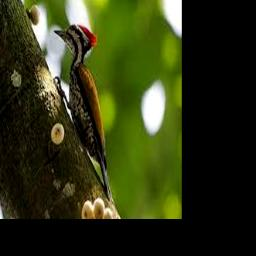Woodpecker: (53, 25, 113, 202)
